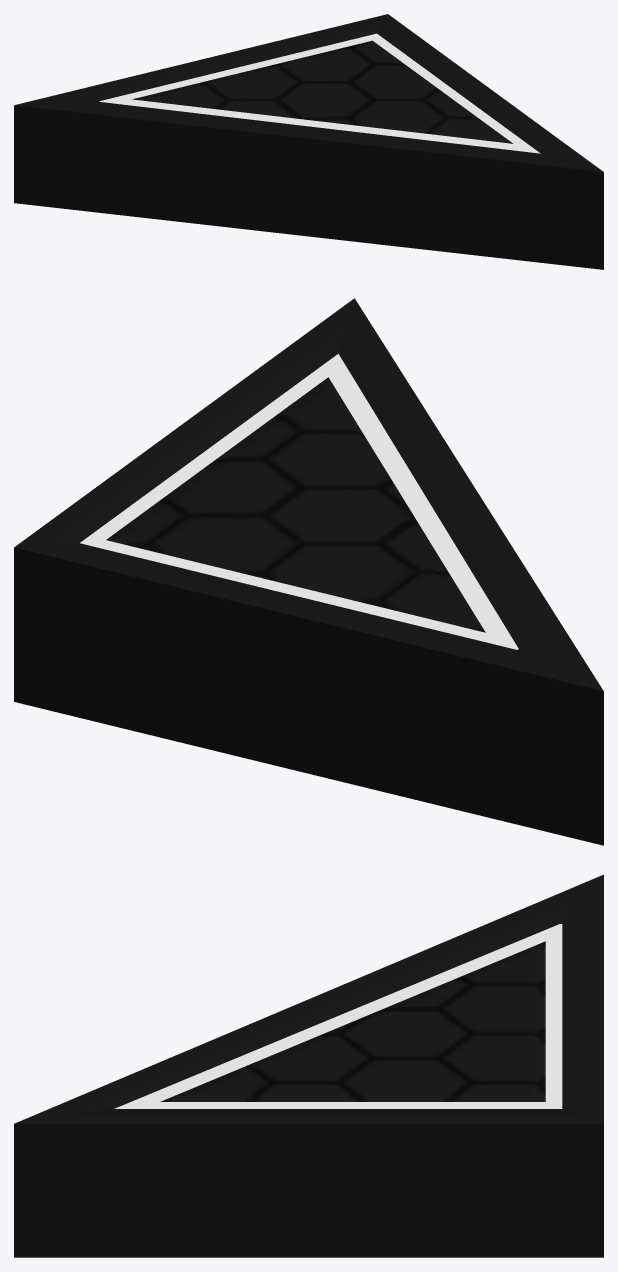
The model's file is Tile 2E4.fbx.
3 renders of one model, top to bottom at view 1: azimuth 30°, elevation 25°; view 2: azimuth 150°, elevation 25°; view 3: azimuth 270°, elevation 25°, orthographic. The views are drawn at different scales.
Parts seen in each view (by area): view 1: pCube171; view 2: pCube171; view 3: pCube171.
Boxes of the visible parts, left/top/right/bottom form: pCube171: left=14, top=14, right=603, bottom=269; pCube171: left=14, top=298, right=603, bottom=845; pCube171: left=14, top=874, right=603, bottom=1257.
Size of the model in its own units: 4 by 1 by 4.
